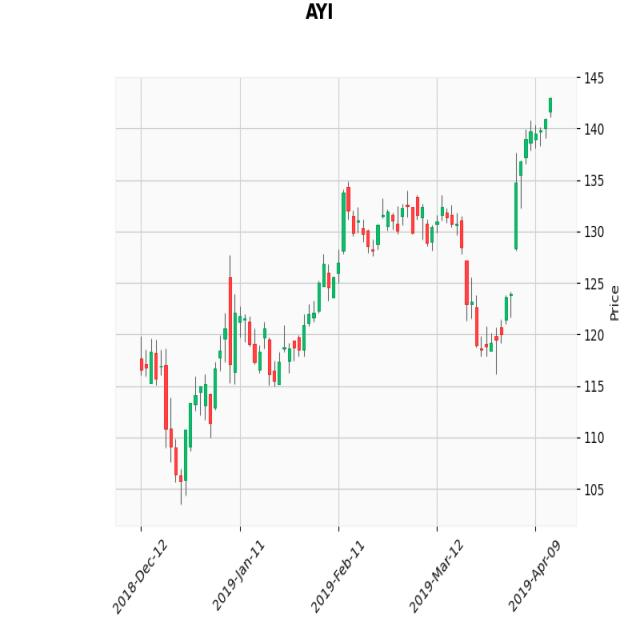Double-Top: (334, 180, 434, 267)
